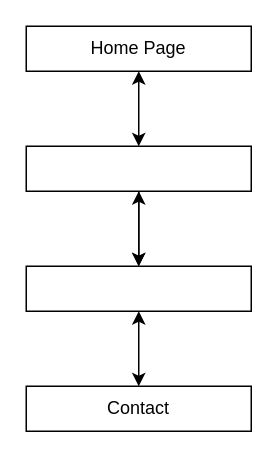
The diagram is 278 pixels wide and 458 high, and some of its shapes have lost their labels. Here are the shapes that lost their labels. From the top down, the centre of each, then its label:
At pixel 138 168: "About".
At pixel 138 288: "Projects".
